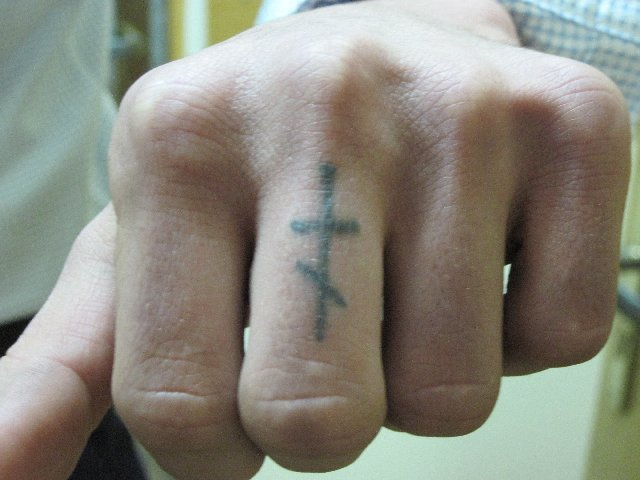tatu9_krest: (285, 155, 368, 352)
